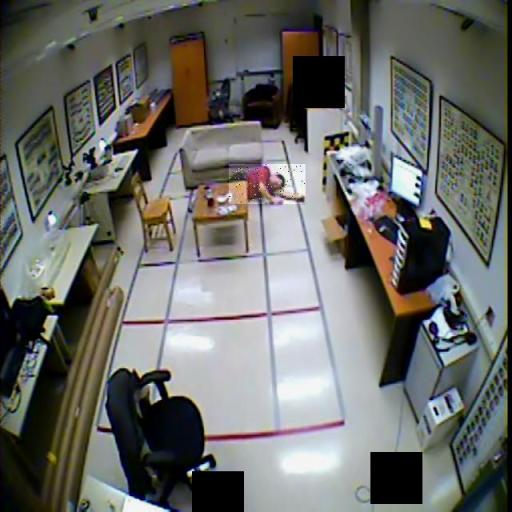Fall: (229, 164, 306, 204)
